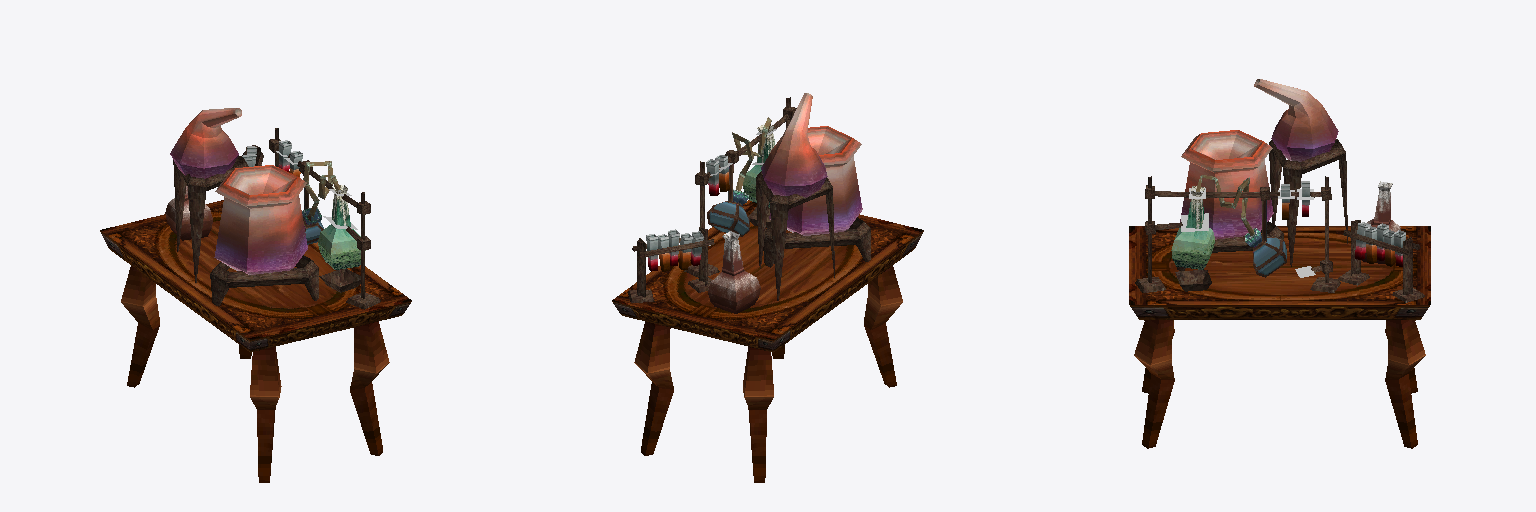
3 renders of one model, left to right at view 1: azimuth 30°, elevation 25°; view 2: azimuth 150°, elevation 25°; view 3: azimuth 270°, elevation 25°, orthographic.
Visible parts, largest first — view 1: object 1; view 2: object 1; view 3: object 1.
Part boxes in pixels (left/top/right/bottom): object 1: left=100, top=108, right=411, bottom=482; object 1: left=612, top=93, right=923, bottom=482; object 1: left=1129, top=79, right=1430, bottom=448.
Size of the model in its own units: 1.95 by 3.74 by 3.13.
Materials: 10 (9 with a texture image).